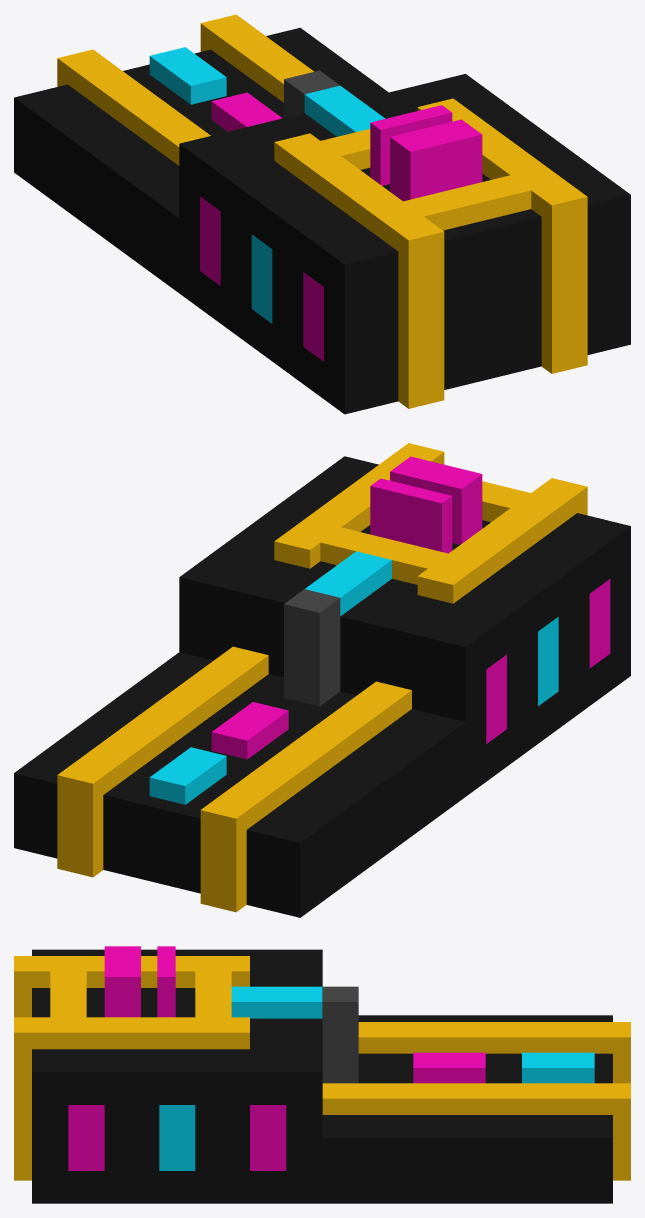
The model's file is DecorationRectangle1.gltf.
The picture shows the model from 3 angles, top to bottom: view 1: azimuth 30°, elevation 25°; view 2: azimuth 150°, elevation 25°; view 3: azimuth 270°, elevation 25°; orthographic projection. The views are drawn at different scales.
Visible parts, largest first — view 1: cube (×28); view 2: cube (×28); view 3: cube (×28).
Boxes of the visible parts, x1=… form: cube (×28): x1=14, y1=14, x2=630, y2=414; cube (×28): x1=14, y1=450, x2=630, y2=917; cube (×28): x1=14, y1=946, x2=630, y2=1203.
Bounding box in the file's own units: 1 × 0.6875 × 2.12.
5 materials, 5 textured.
